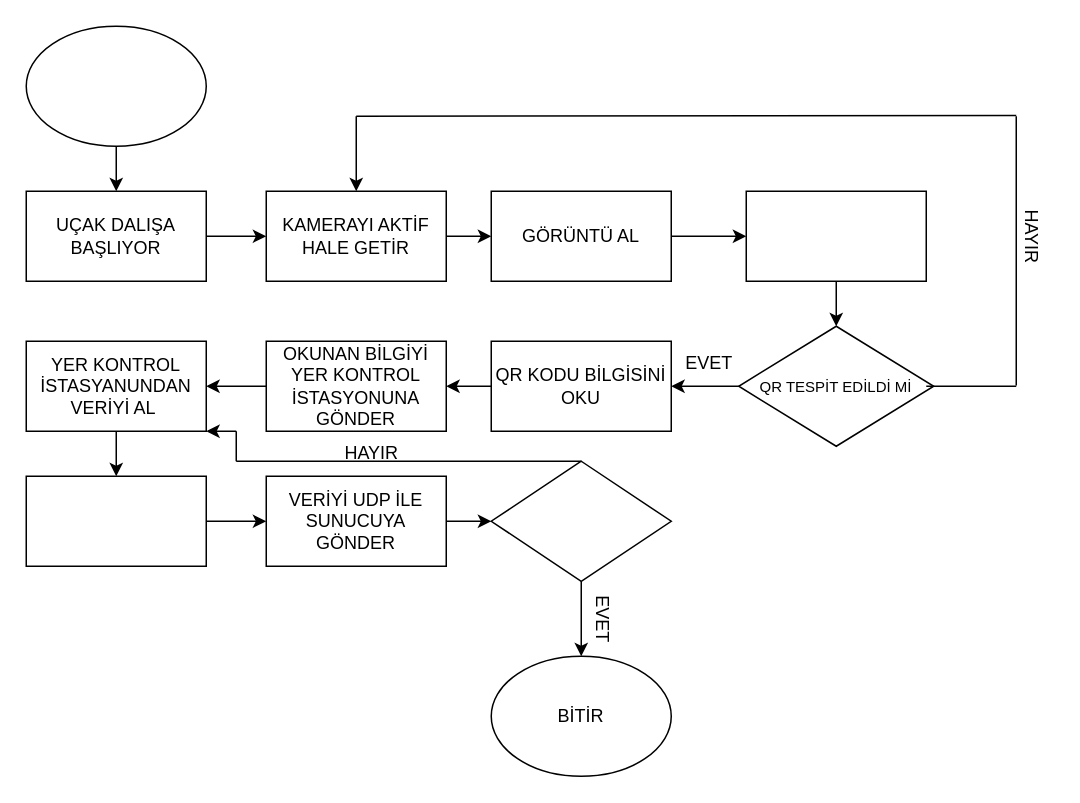
Image size: 1080x803. Some labels were removed from this diagram. Each missing label, with the box of its shape:
BAŞLA: (25, 25, 206, 146)
GÖRÜNTÜDEN QR KODUNU TESPİT ET: (745, 190, 926, 281)
VERİ ARAYÜZÜNE AKTAR: (25, 475, 206, 566)
VERİ BAŞARIYLA AKTARILDI MI: (490, 460, 671, 581)
